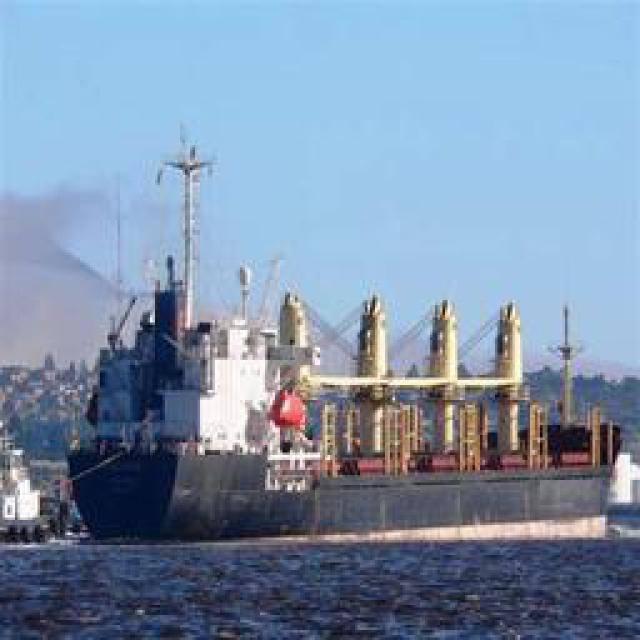Ship: (48, 118, 628, 555)
